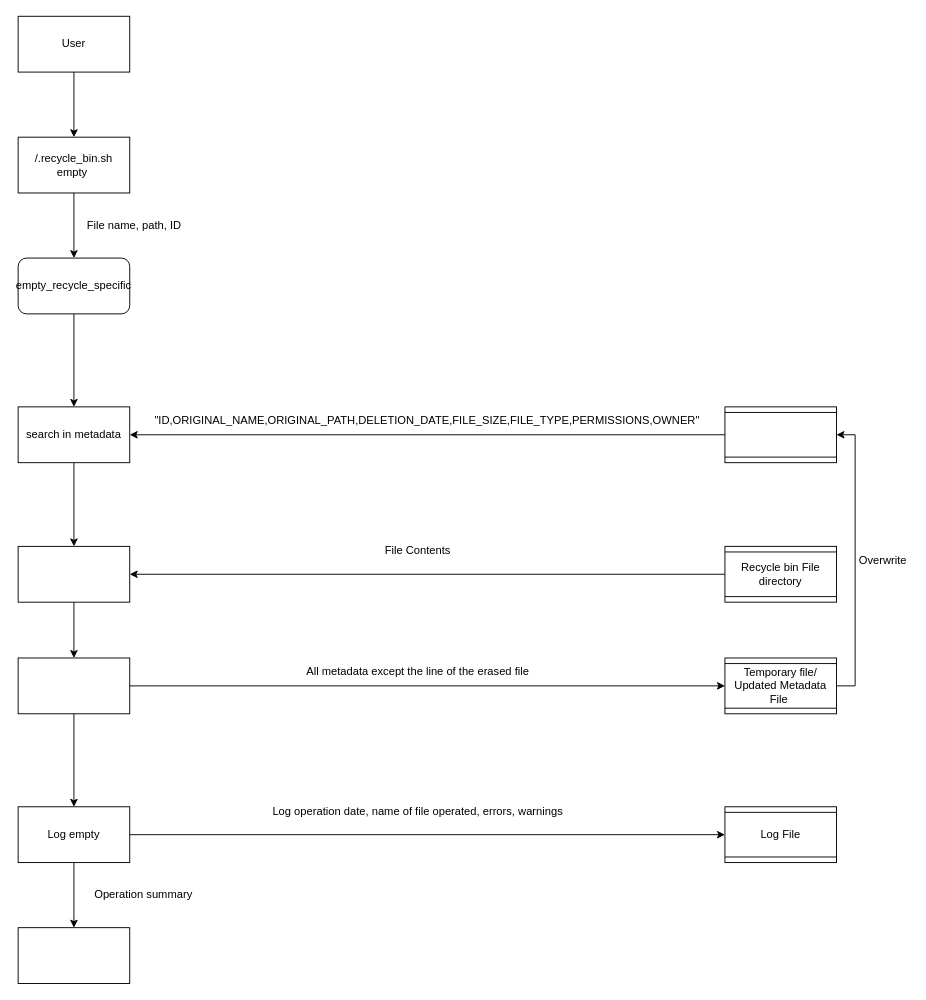
Some shapes in this 926 by 1000 pixel diagram are drawn without their labels. The box of each missing label's shape, as (x1, y1, x2, y2) in pixels:
Metadata File: (724, 406, 837, 463)
Purge specific file: (17, 545, 130, 602)
Terminal: (17, 927, 130, 983)
Update Metadata File: (17, 657, 130, 714)
